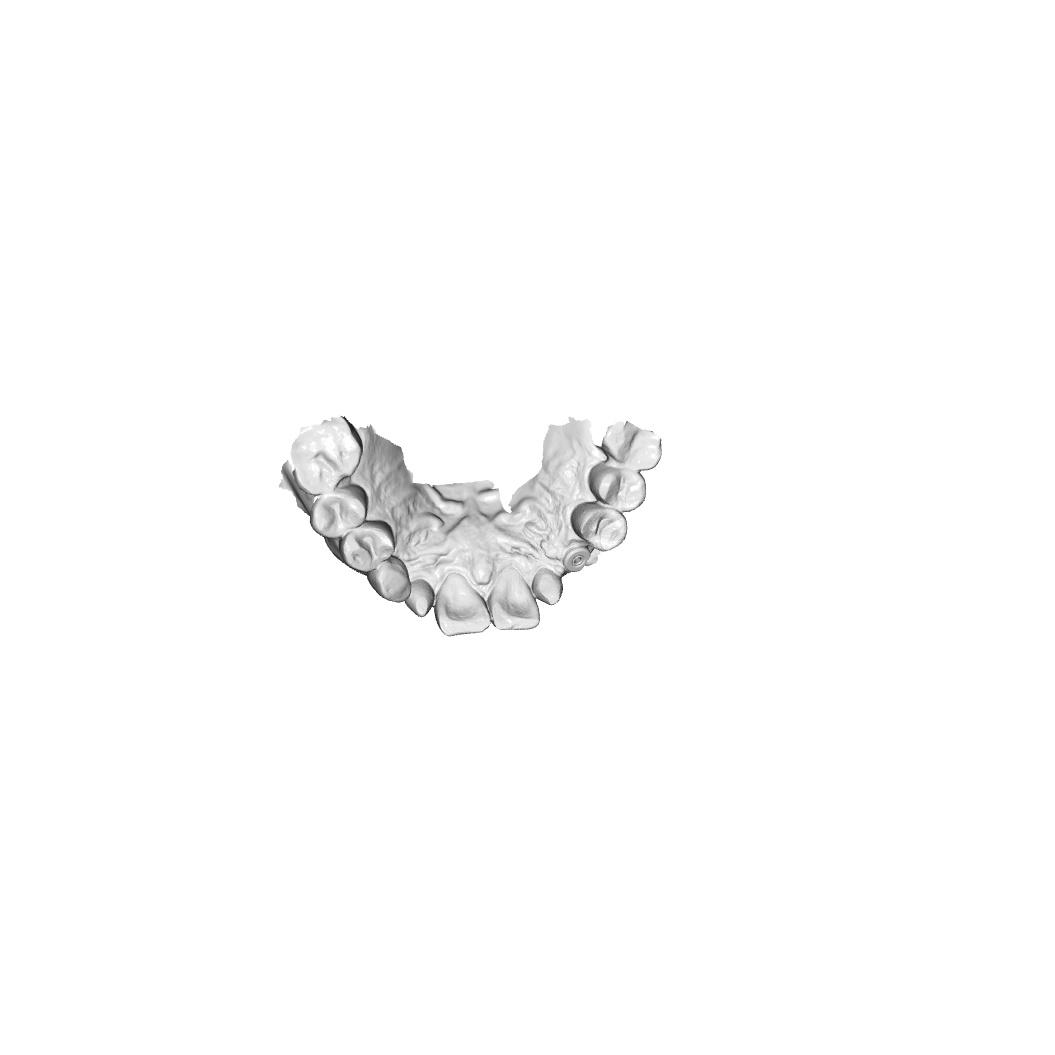canine: (365, 555, 412, 604)
implant: (561, 546, 591, 573)
incisor: (433, 572, 492, 638), (485, 567, 541, 631), (531, 567, 564, 607), (403, 578, 435, 619)
molar: (289, 417, 365, 497), (601, 421, 665, 473)
premolar: (308, 483, 369, 539), (588, 460, 647, 513), (339, 520, 396, 573), (570, 501, 628, 551)
